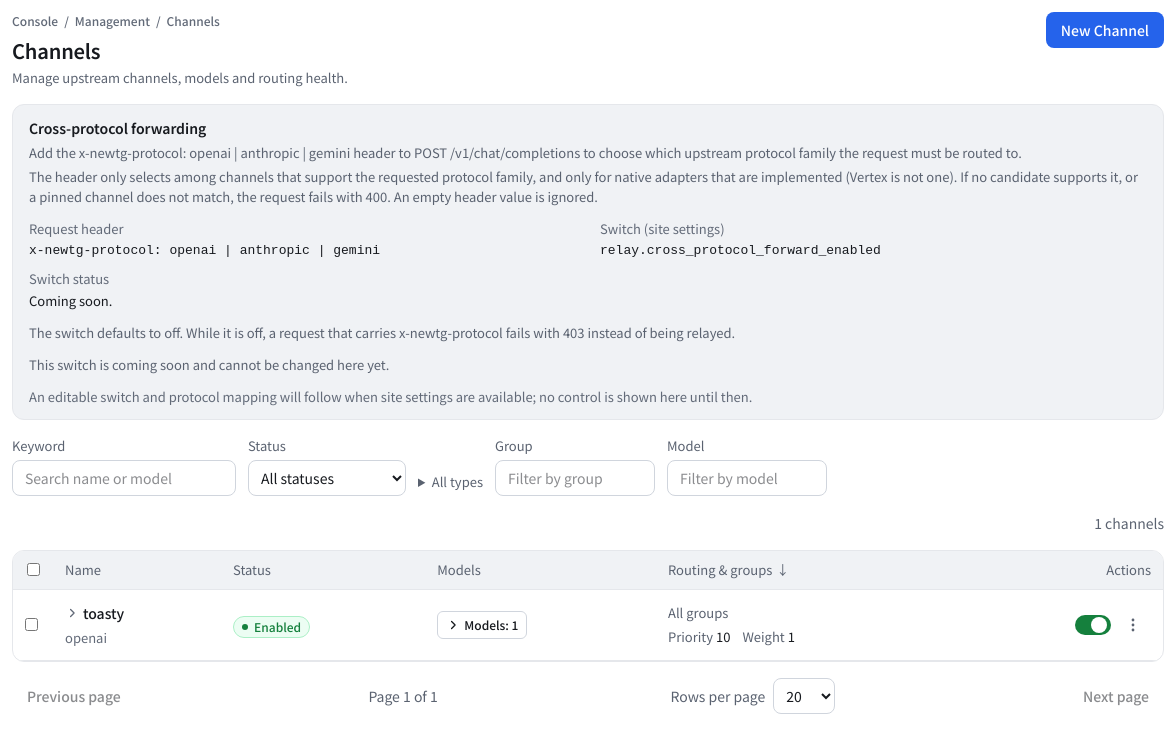
Scenario: ChannelListPage › maps a failed single-channel test into the toast reason
Expected: the button "toasty" is shown, [83,602,124,624]
Click the button named "More actions for " at (1133, 625), box [1115,607,1151,643]
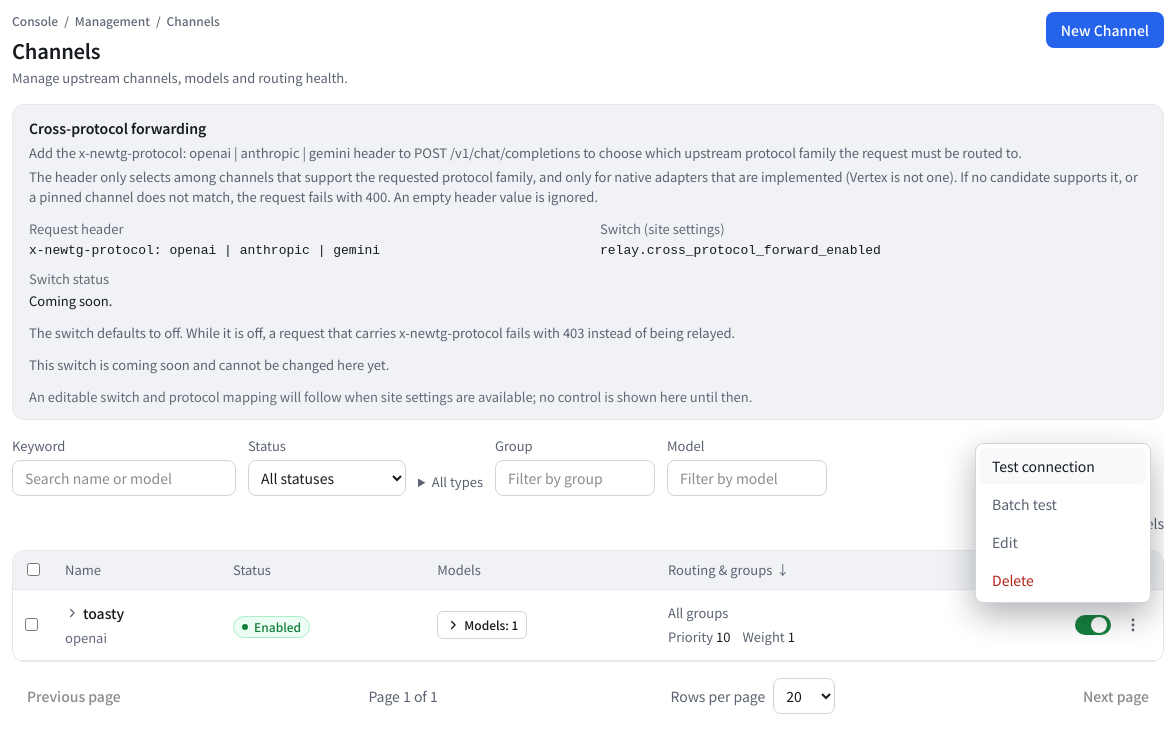
Click the menu item "Test connection" at (1063, 466), box [980,448,1146,484]
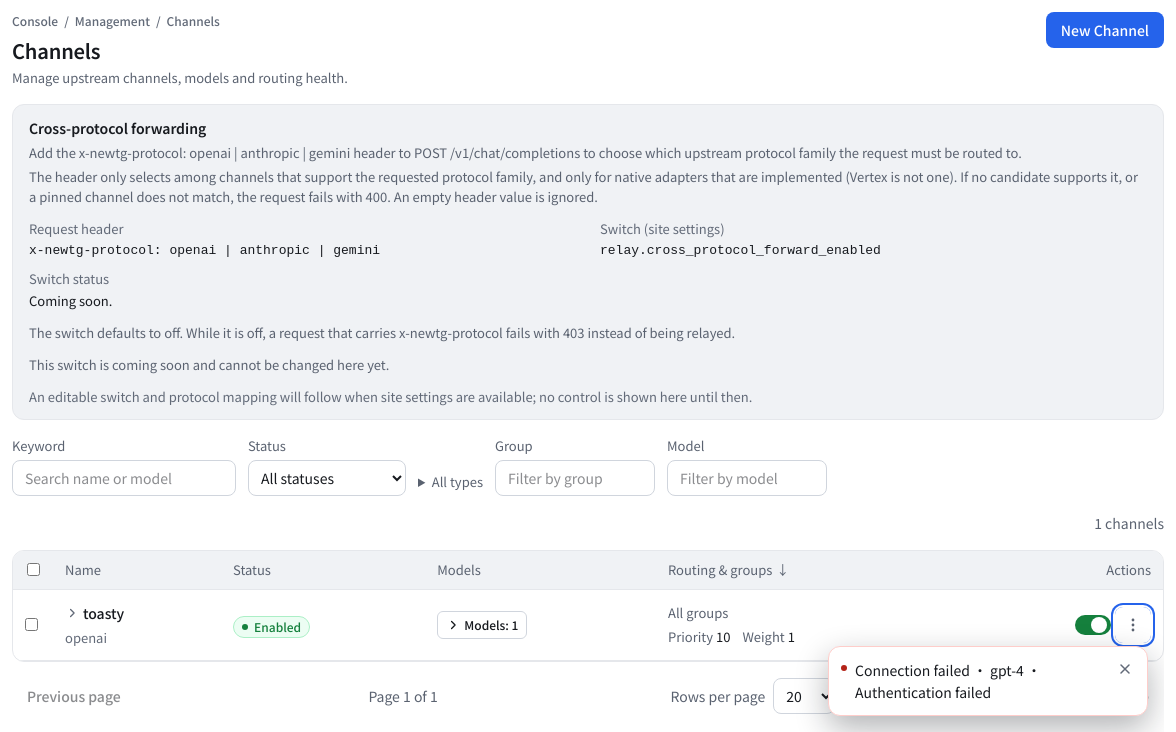
Result: the text "Connection failed · gpt-4 · Authentication failed" is shown at [855,660,1041,702]
